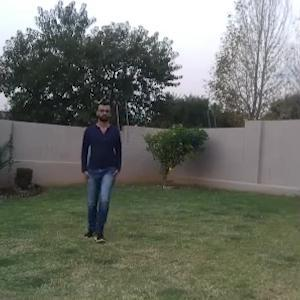follow: (81, 104, 119, 235)
